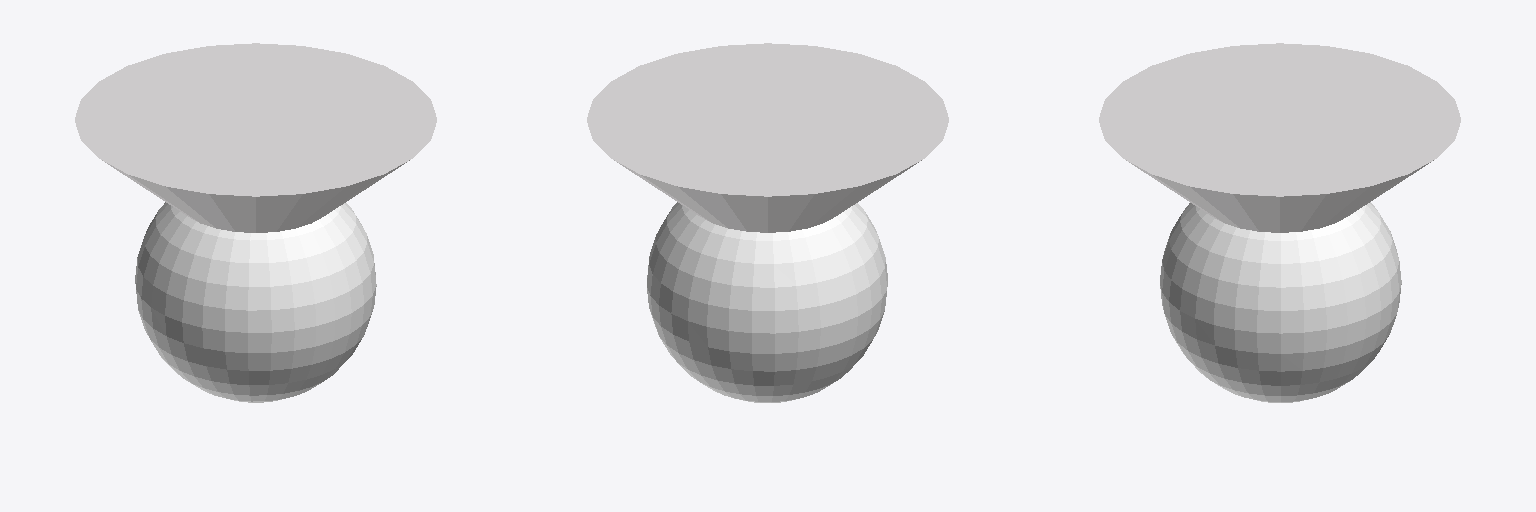
3 views of the same model, side by side, from view 1: azimuth 30°, elevation 25°; view 2: azimuth 150°, elevation 25°; view 3: azimuth 270°, elevation 25° (orthographic).
Parts seen in each view (by area): view 1: Cone001, Sphere001; view 2: Cone001, Sphere001; view 3: Cone001, Sphere001.
Part boxes in pixels (x1,y1,x2,y2): Cone001: (75, 43, 436, 232); Sphere001: (135, 202, 376, 402); Cone001: (587, 43, 948, 232); Sphere001: (647, 202, 887, 402); Cone001: (1099, 43, 1460, 232); Sphere001: (1160, 202, 1401, 402).
Size of the model in its own units: 7.12 by 5.89 by 7.12.
Materials: 2 (2 with a texture image).